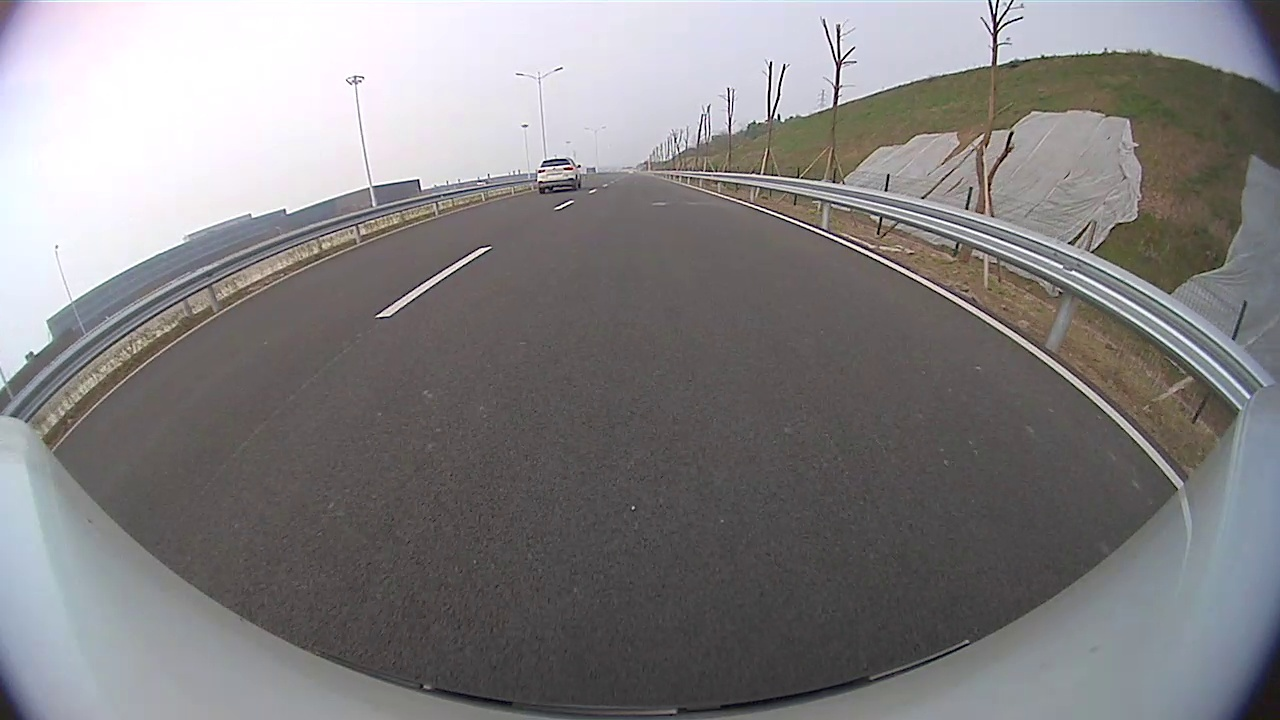car: (536, 157, 583, 196)
